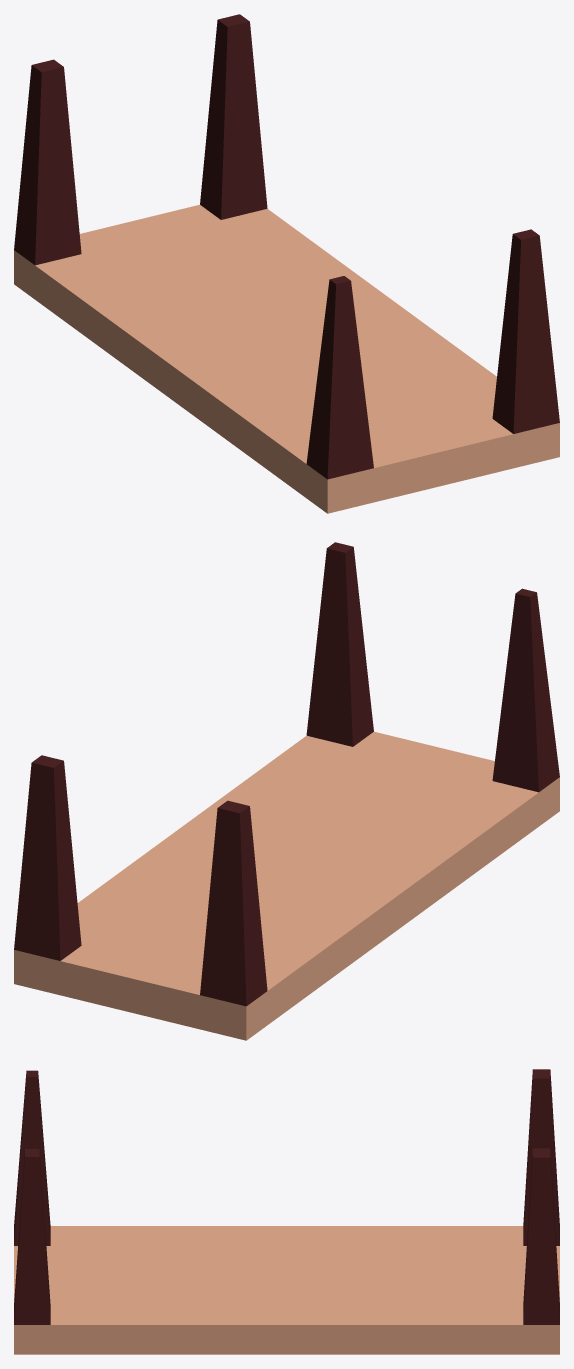
The model's file is Table.fbx.
3 views of the same model, one above another, from view 1: azimuth 30°, elevation 25°; view 2: azimuth 150°, elevation 25°; view 3: azimuth 270°, elevation 25° (orthographic). The views are drawn at different scales.
Parts seen in each view (by area): view 1: Table; view 2: Table; view 3: Table.
Boxes of the visible parts, bbox=[...] form: Table: bbox=[14, 14, 559, 513]; Table: bbox=[14, 542, 559, 1040]; Table: bbox=[14, 1069, 559, 1354].
Bounding box in the file's own units: 258 × 234 × 604.
